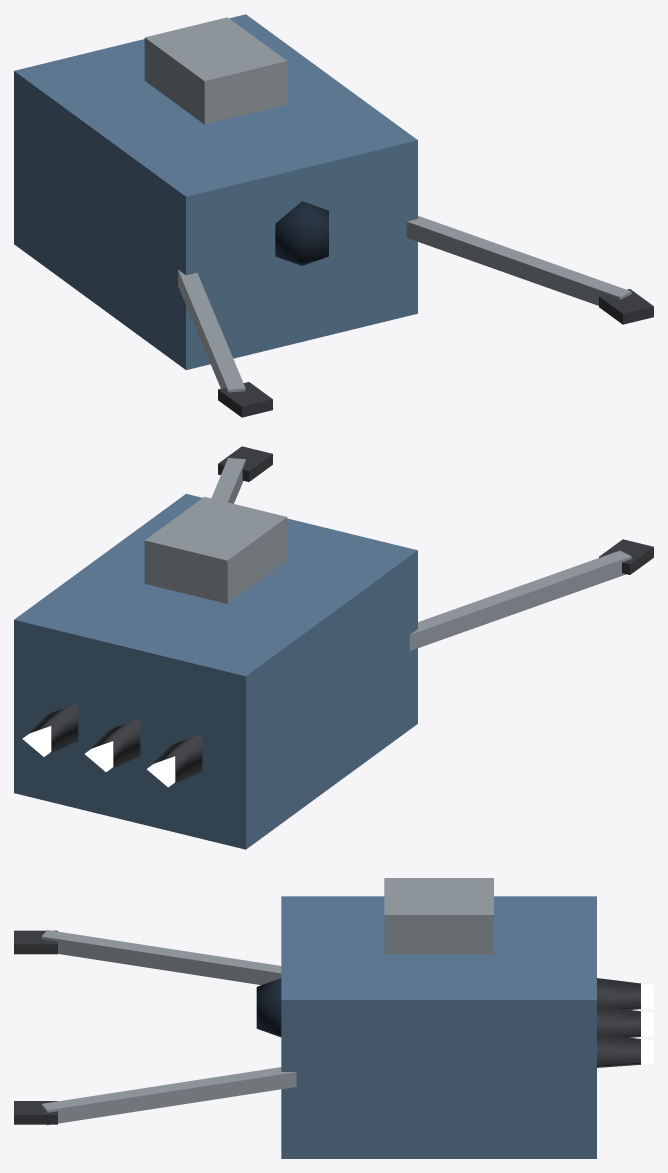
Rendered from space_ship_builder_drone_mk6_lod2.glb.
3 renders of one model, top to bottom at view 1: azimuth 30°, elevation 25°; view 2: azimuth 150°, elevation 25°; view 3: azimuth 270°, elevation 25°, orthographic. The views are drawn at different scales.
Parts seen in each view (by area): view 1: body, arm_1, arm_0; view 2: body, arm_0, arm_1, engine_2, engine_0, engine_1; view 3: body, arm_1, arm_0, engine_2, engine_0, engine_1.
Boxes of the visible parts, x1=… form: body: x1=14, y1=14, x2=417, y2=369; arm_1: x1=406, y1=216, x2=653, y2=324; arm_0: x1=178, y1=269, x2=272, y2=417; body: x1=14, y1=494, x2=417, y2=849; arm_0: x1=409, y1=539, x2=653, y2=650; arm_1: x1=211, y1=446, x2=272, y2=503; engine_2: x1=22, y1=703, x2=78, y2=756; engine_0: x1=147, y1=734, x2=202, y2=787; engine_1: x1=85, y1=718, x2=140, y2=771; body: x1=256, y1=878, x2=596, y2=1158; arm_1: x1=14, y1=1067, x2=296, y2=1125; arm_0: x1=14, y1=930, x2=281, y2=984; engine_2: x1=597, y1=1033, x2=653, y2=1067; engine_0: x1=597, y1=978, x2=653, y2=1009; engine_1: x1=597, y1=1006, x2=653, y2=1037.
Bounding box in the file's own units: 3.98 × 2.12 × 5.84.
